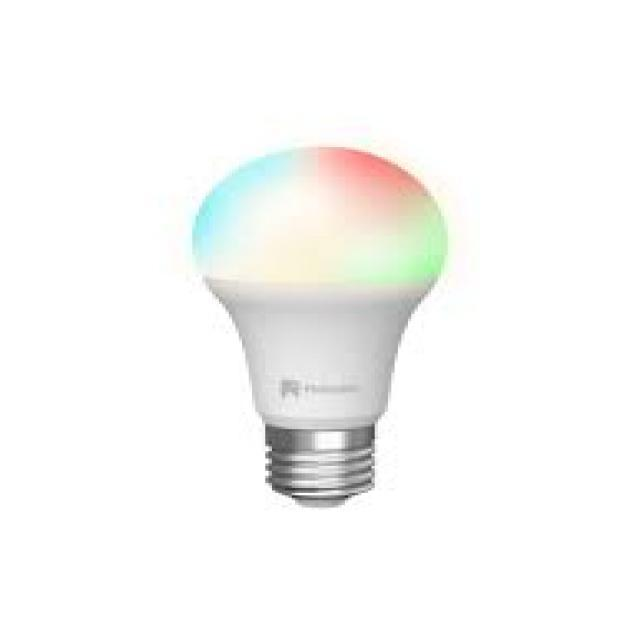light_bulb: (162, 130, 476, 530)
